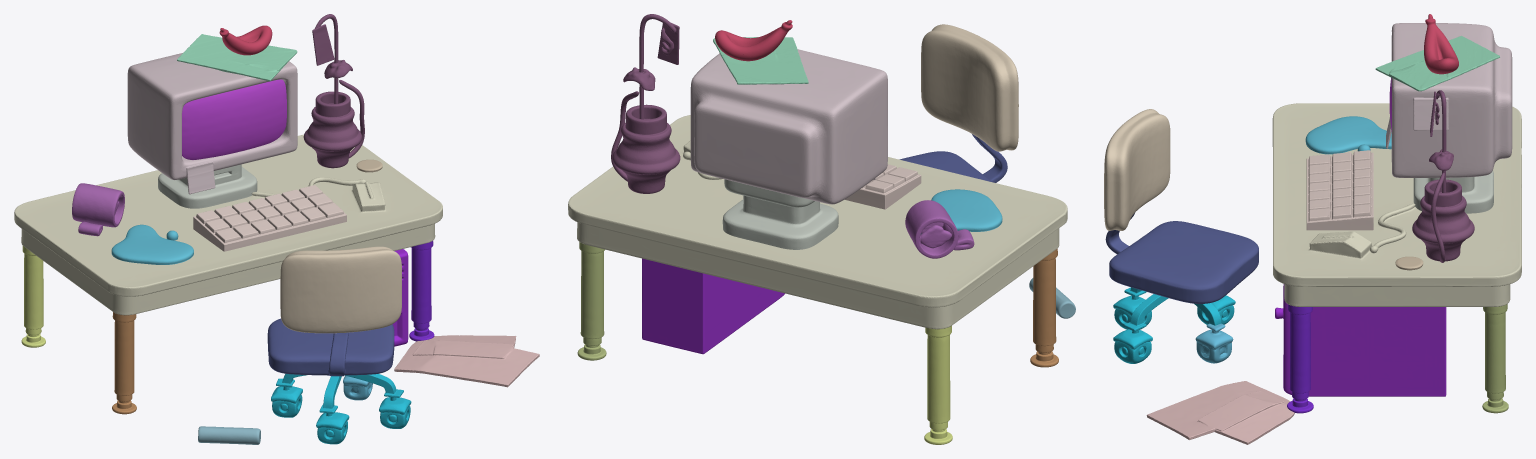
3 views of the same model, side by side, from view 1: azimuth 30°, elevation 25°; view 2: azimuth 150°, elevation 25°; view 3: azimuth 270°, elevation 25° (orthographic). The views are drawn at different scales.
Parts seen in each view (by area): view 1: world; view 2: world; view 3: world.
Boxes of the visible parts, <box> form: world: <box>14,14,539,444</box>; world: <box>568,14,1075,444</box>; world: <box>1104,14,1521,444</box>.
Size of the model in its own units: 0.8283 by 0.6279 by 0.7271.
